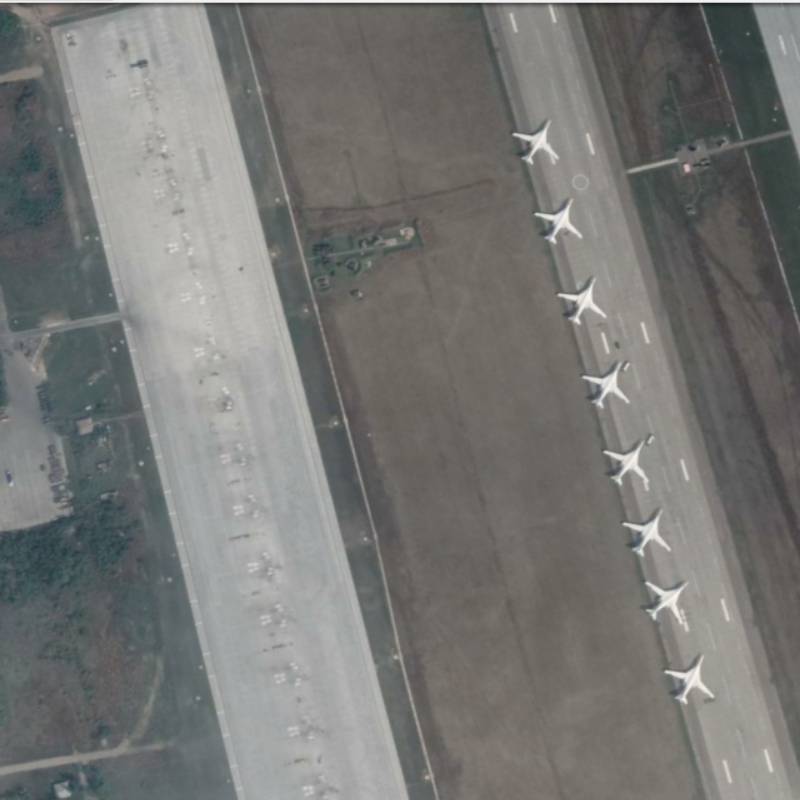A6: (662, 650, 717, 707), (618, 506, 674, 558), (554, 273, 608, 326), (532, 194, 584, 247), (578, 359, 631, 410), (510, 117, 560, 169), (642, 575, 692, 627), (599, 438, 649, 488)
